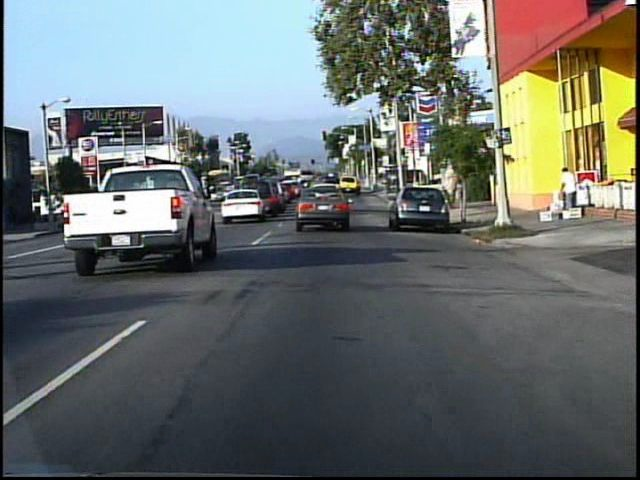person: (556, 160, 579, 209)
